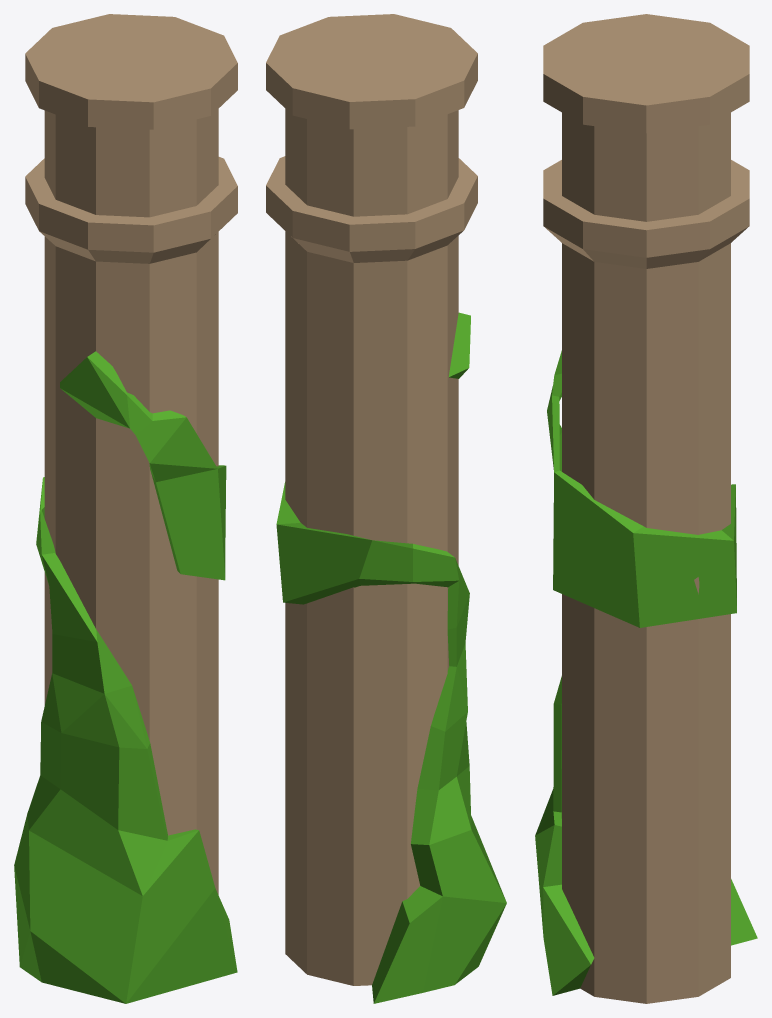
File: 3D_obstacle_column_nobase_moss_02.fbx
The picture shows the model from 3 angles, left to right: view 1: azimuth 30°, elevation 25°; view 2: azimuth 150°, elevation 25°; view 3: azimuth 270°, elevation 25°; orthographic projection.
Visible parts, largest first — view 1: SM_colomn_nobase_moss_02; view 2: SM_colomn_nobase_moss_02; view 3: SM_colomn_nobase_moss_02.
Boxes of the visible parts, x1,y1,x2,y2 form: SM_colomn_nobase_moss_02: [14, 14, 237, 1003]; SM_colomn_nobase_moss_02: [266, 14, 506, 1003]; SM_colomn_nobase_moss_02: [535, 14, 757, 1003].
Bounding box in the file's own units: 95.69 × 388 × 86.42.
Materials: 1 (1 with a texture image).
